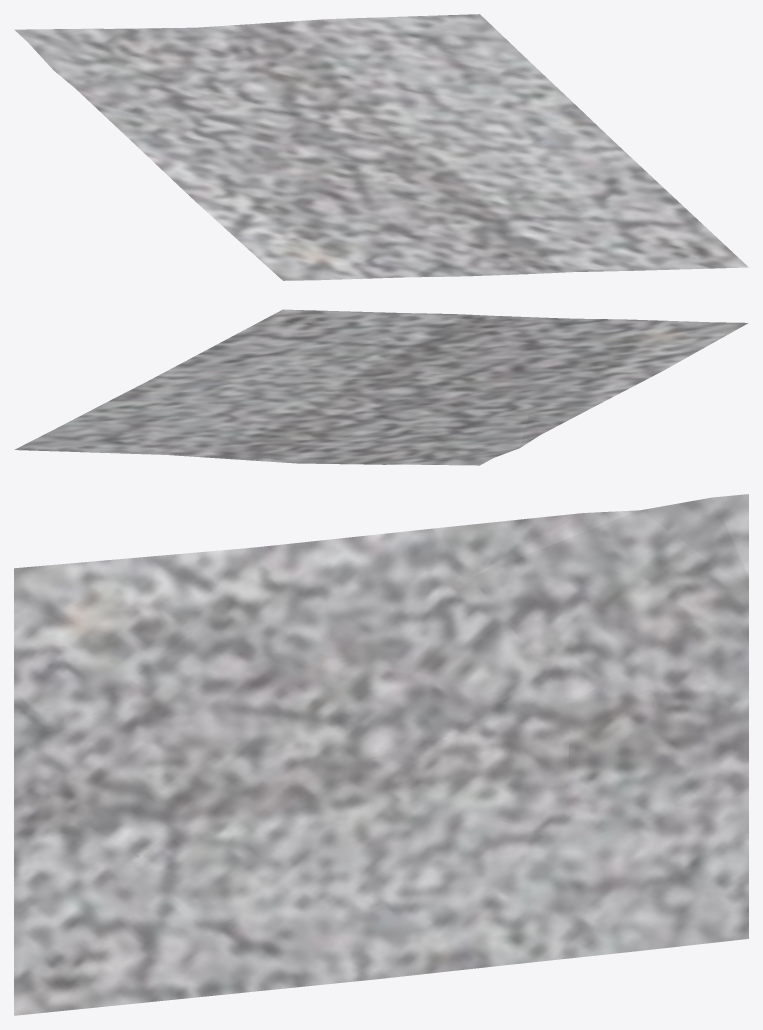
The picture shows the model from 3 angles, top to bottom: view 1: azimuth 30°, elevation 25°; view 2: azimuth 150°, elevation 25°; view 3: azimuth 270°, elevation 25°; orthographic projection. The views are drawn at different scales.
Size of the model in its own units: 0.8374 by 0.2654 by 0.8373.
3 materials, 3 textured.
